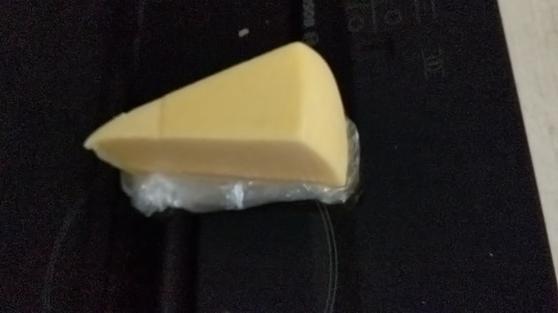cheese: (75, 32, 359, 197)
